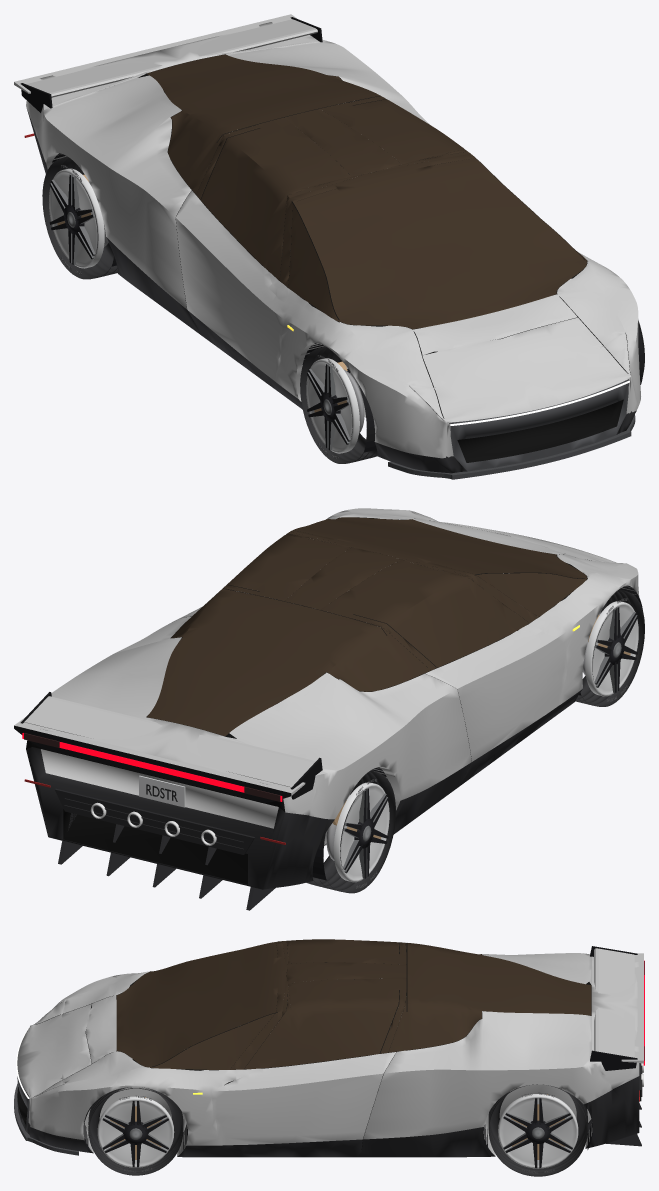
Rendered from roadster_lod1.glb.
3 views of the same model, one above another, from view 1: azimuth 30°, elevation 25°; view 2: azimuth 150°, elevation 25°; view 3: azimuth 270°, elevation 25° (orthographic). The views are drawn at different scales.
Parts seen in each view (by area): view 1: chassis, wheel_rr_spin, wheel_fr_spin, wing_body; view 2: chassis, wing_body, wheel_rr_spin, wheel_fr_spin; view 3: chassis, wheel_rl_spin, wheel_fl_spin, wing_body.
Part boxes in pixels (x1,y1,x2,y2): chassis: (14, 14, 643, 479); wheel_rr_spin: (42, 156, 117, 279); wheel_fr_spin: (300, 346, 377, 463); wing_body: (20, 17, 322, 112); chassis: (14, 508, 642, 910); wing_body: (20, 692, 322, 799); wheel_rr_spin: (306, 770, 395, 893); wheel_fr_spin: (575, 589, 644, 706); chassis: (14, 939, 644, 1157); wheel_rl_spin: (488, 1084, 587, 1176); wheel_fl_spin: (88, 1087, 183, 1175); wing_body: (590, 946, 637, 1070).
Size of the model in its own units: 2 by 1.21 by 4.62.
